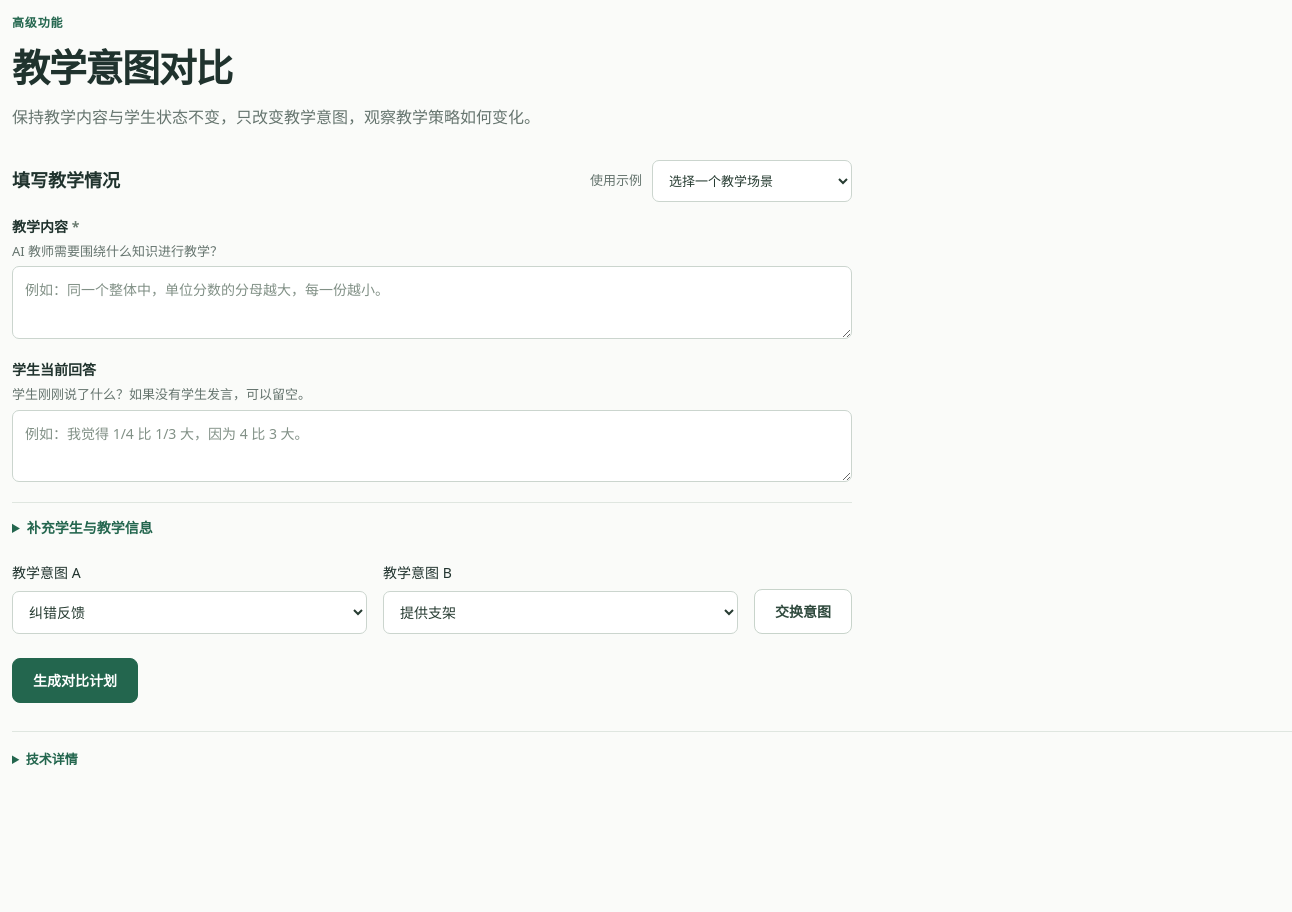
Scenario: compares only on an explicit request, preserving both intent fields
Select "分数大小纠错" in the dropdown labelled "使用示例" at (752, 181), box [652,160,852,202]
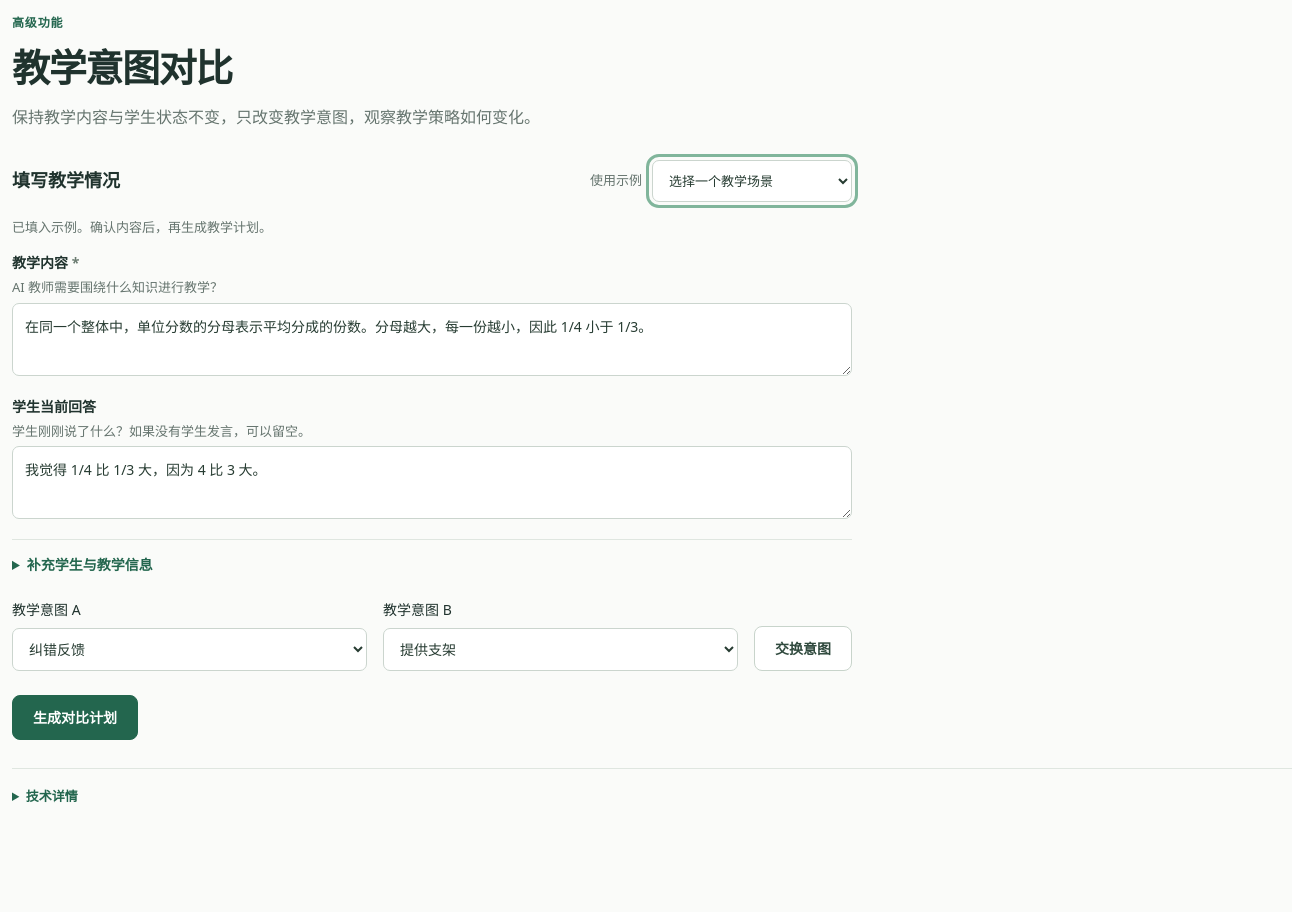
Click the button "生成对比计划".
click(75, 717)  # box [12,695,138,740]
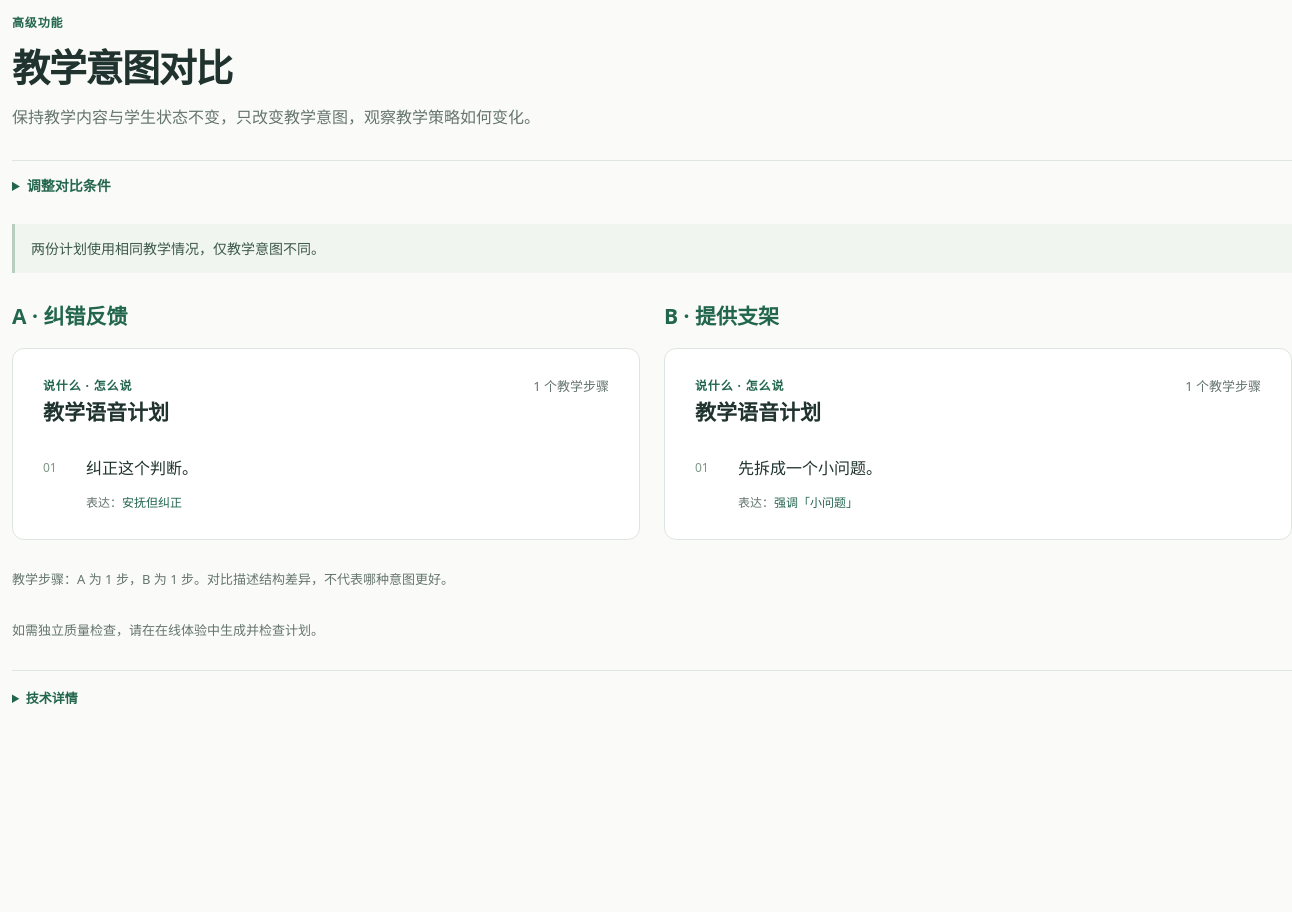
Expected: the text "纠正这个判断。" is shown, [86,458,198,480]
Expected: the text "先拆成一个小问题。" is shown, [738,458,882,480]
